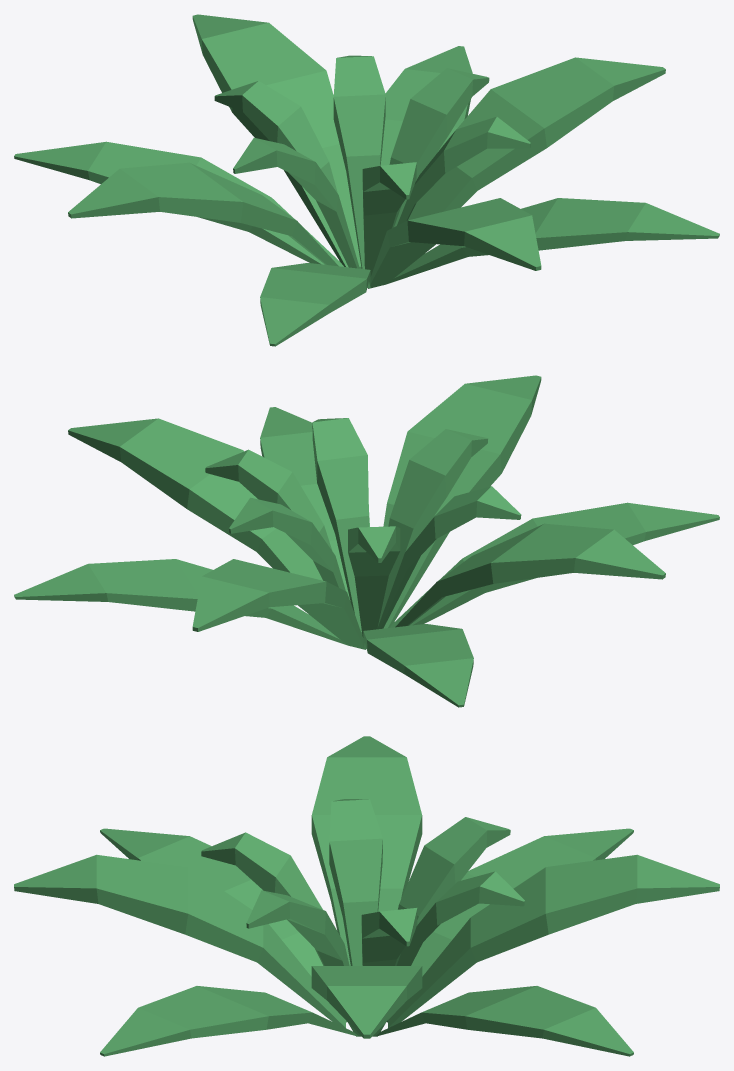
Rendered from TropicalPlant.fbx.
3 views of the same model, one above another, from view 1: azimuth 30°, elevation 25°; view 2: azimuth 150°, elevation 25°; view 3: azimuth 270°, elevation 25° (orthographic). The views are drawn at different scales.
Parts seen in each view (by area): view 1: Cube.005; view 2: Cube.005; view 3: Cube.005.
Boxes of the visible parts, bbox=[...] form: Cube.005: bbox=[14, 14, 719, 346]; Cube.005: bbox=[14, 375, 719, 707]; Cube.005: bbox=[14, 736, 719, 1056].
Bounding box in the file's own units: 513 × 138 × 513.
